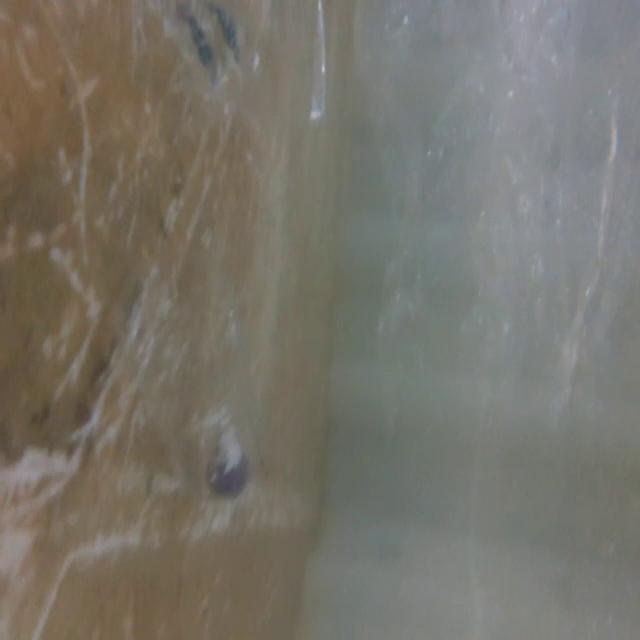plastic bags: (369, 0, 639, 391), (117, 0, 348, 188)
plastic bottle: (108, 231, 272, 539)
